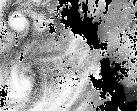CE: (2, 6, 34, 39)
